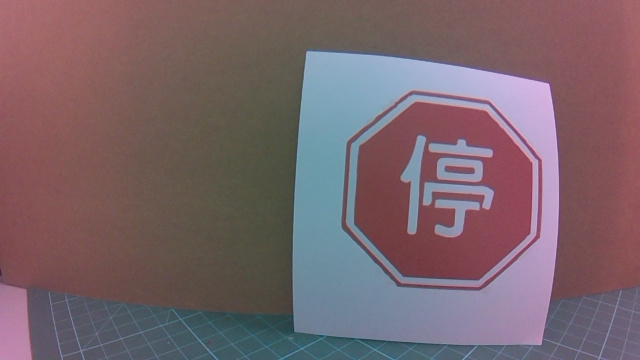stop: (372, 109, 543, 285)
